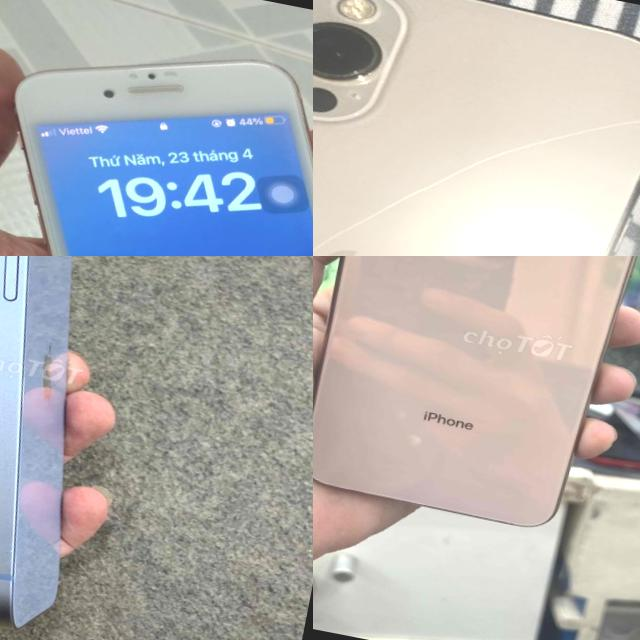gen_12_13: (313, 0, 640, 256)
gen_14: (0, 256, 156, 640)
gen_7_8: (0, 2, 313, 256)
gen_x_xs: (313, 256, 640, 547)
physical_damage: (356, 157, 485, 247), (540, 81, 640, 180), (453, 118, 555, 204), (313, 201, 401, 256)
